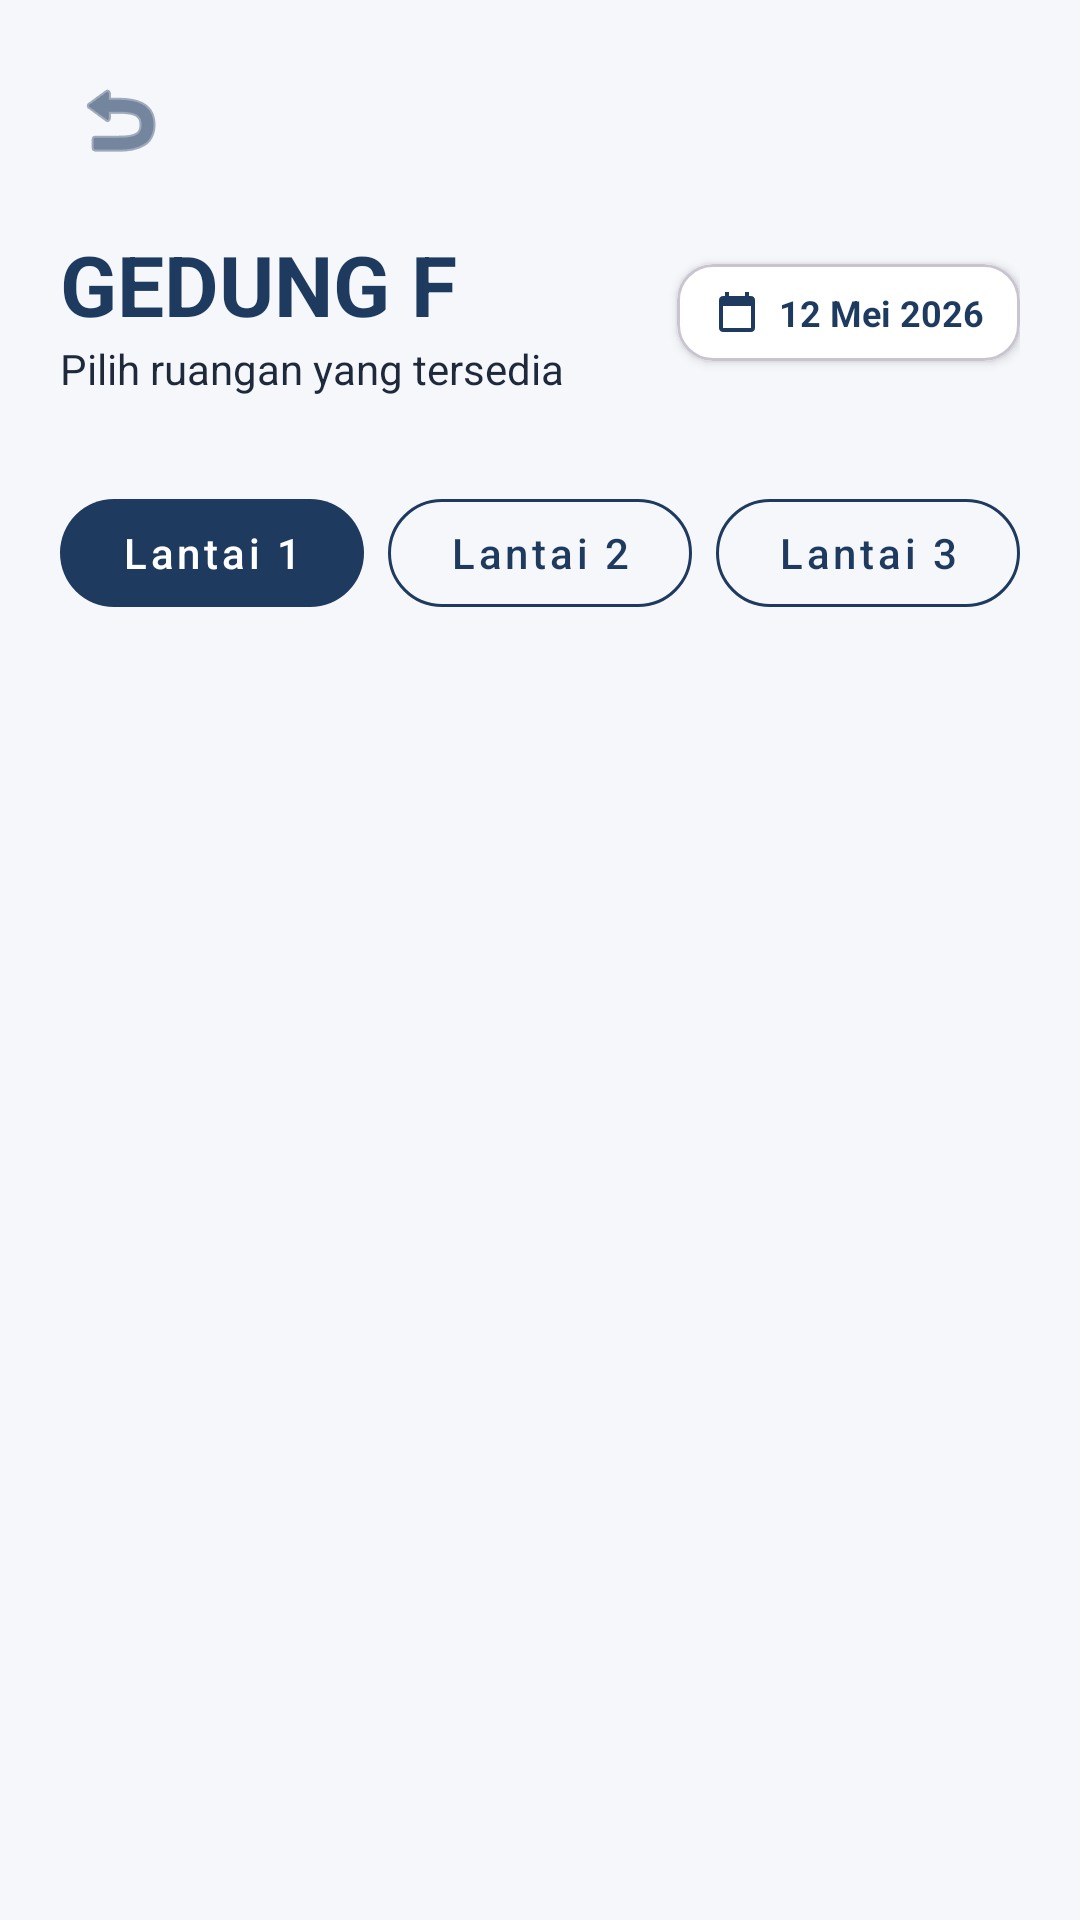

Named icons in this screenshot (1080w x 1920h) and their centers, (x=x, y=y):
calendar: (x=737, y=312)
Kembali: (x=121, y=120)
